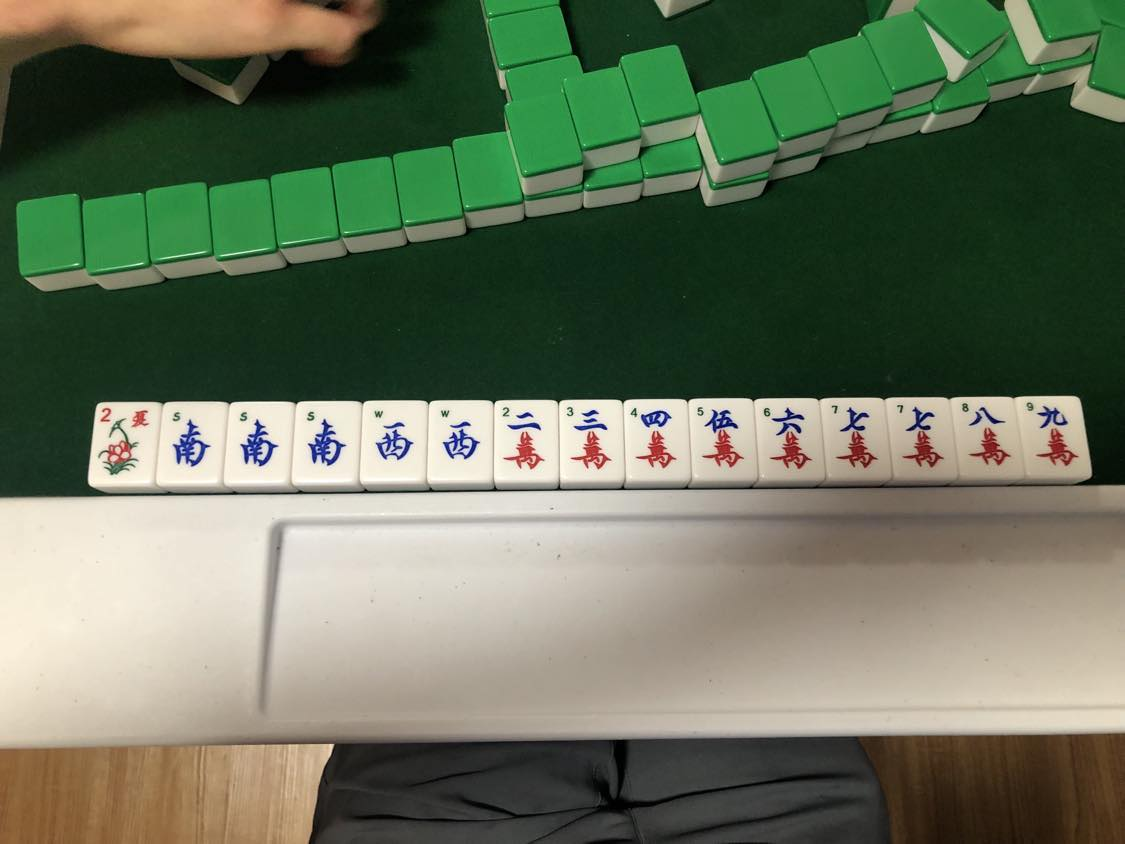character-eight: (959, 399, 1014, 467)
character-five: (694, 402, 752, 472)
character-four: (628, 402, 684, 476)
character-nine: (1023, 400, 1080, 469)
character-seven: (829, 400, 883, 471), (895, 401, 946, 469)
character-six: (761, 401, 817, 473)
character-three: (564, 403, 619, 473)
character-two: (499, 403, 553, 475)
flower-red_two: (96, 404, 152, 482)
honor-south_wind: (165, 406, 219, 478), (234, 405, 284, 479), (299, 407, 350, 478)
honor-west_wind: (367, 404, 420, 475), (436, 406, 485, 473)
